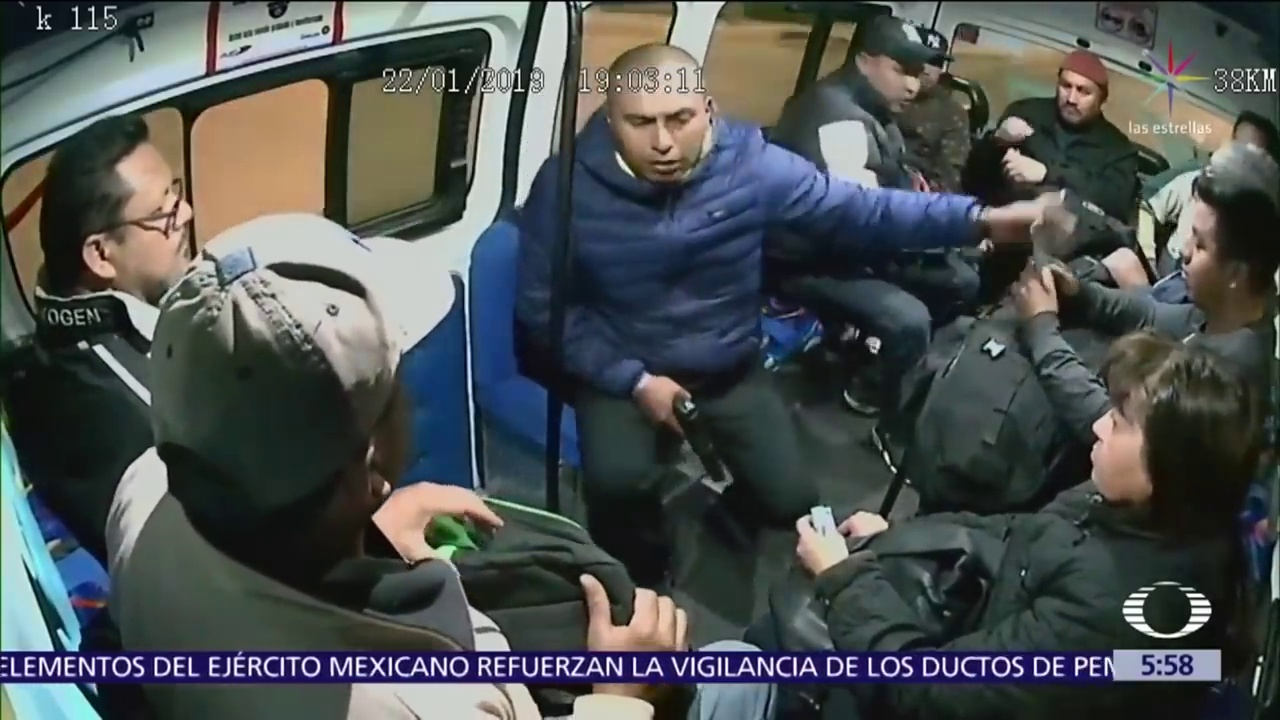pistol: (669, 392, 727, 483)
